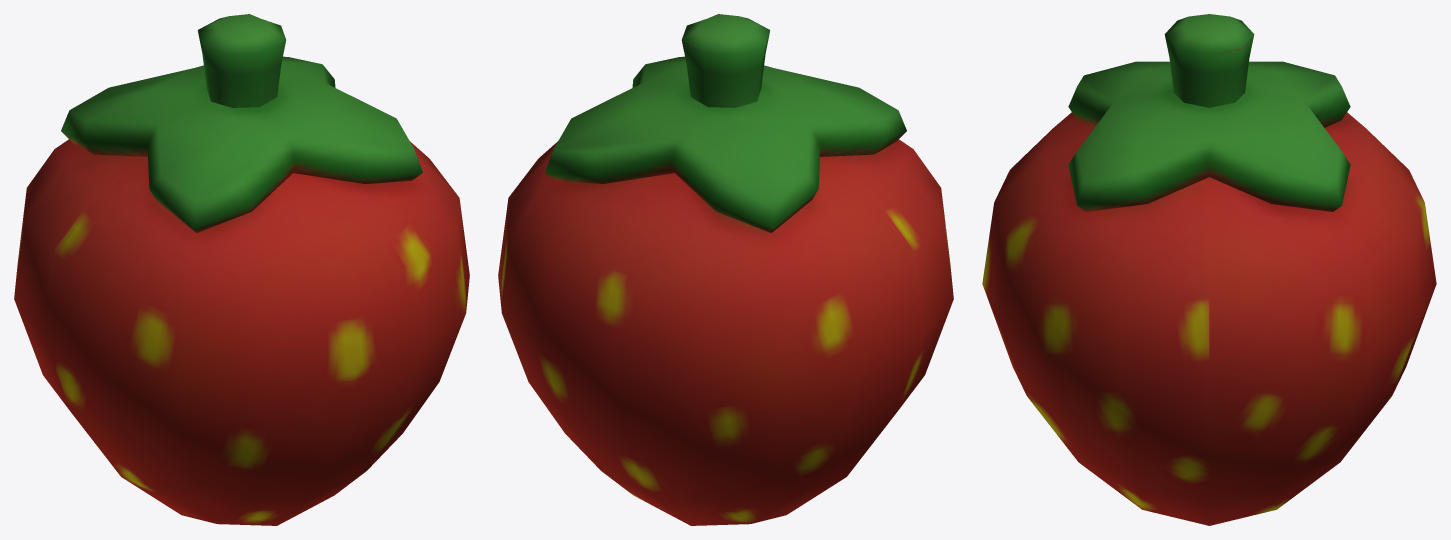
File: strawberry.glb
3 views of the same model, side by side, from view 1: azimuth 30°, elevation 25°; view 2: azimuth 150°, elevation 25°; view 3: azimuth 270°, elevation 25° (orthographic).
Parts seen in each view (by area): view 1: geometry_0; view 2: geometry_0; view 3: geometry_0.
Boxes of the visible parts, left/top/right/bottom form: geometry_0: left=14, top=14, right=469, bottom=525; geometry_0: left=498, top=14, right=953, bottom=525; geometry_0: left=982, top=14, right=1436, bottom=525.
Bounding box in the file's own units: 2.08 × 2.47 × 2.08.
Materials: 1 (1 with a texture image).
